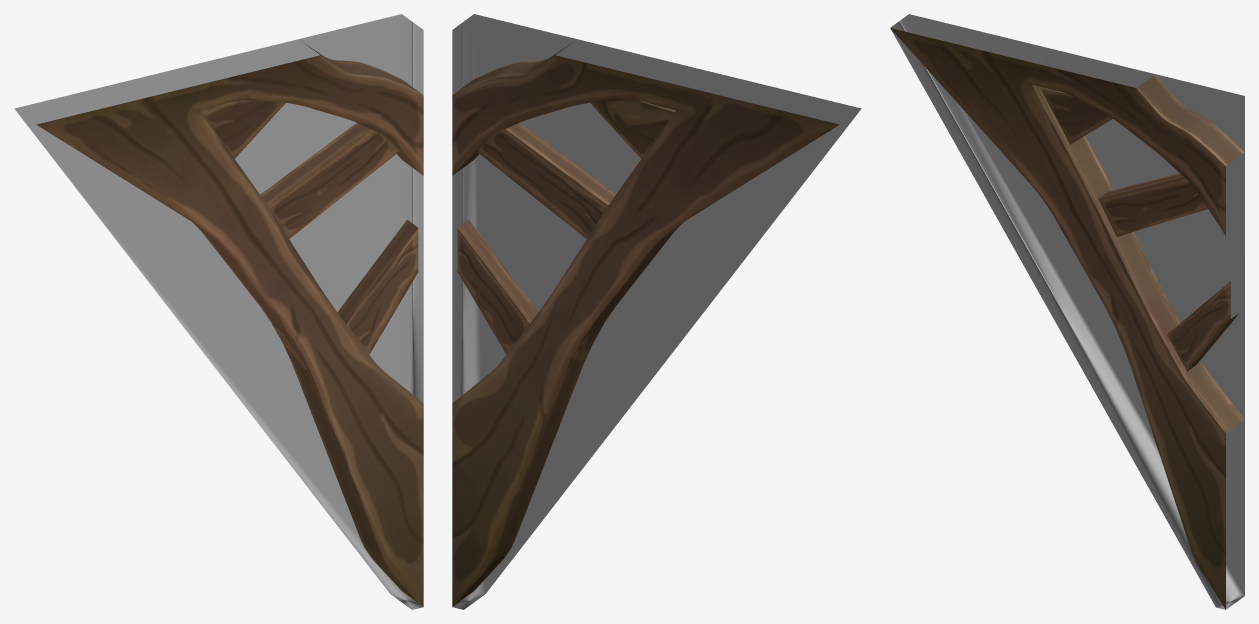
File: SM_FacadePart_02.gltf
3 views of the same model, side by side, from view 1: azimuth 30°, elevation 25°; view 2: azimuth 150°, elevation 25°; view 3: azimuth 330°, elevation 25° (orthographic). The views are drawn at different scales.
Visible parts, largest first — view 1: SM_FacadePart_02_LOD0, SM_FacadePart_02_ConvexHulls; view 2: SM_FacadePart_02_LOD0, SM_FacadePart_02_ConvexHulls; view 3: SM_FacadePart_02_LOD0, SM_FacadePart_02_ConvexHulls.
Part boxes in pixels (bbox=[...]): SM_FacadePart_02_LOD0: bbox=[36, 40, 423, 606]; SM_FacadePart_02_ConvexHulls: bbox=[14, 14, 423, 609]; SM_FacadePart_02_LOD0: bbox=[452, 40, 839, 606]; SM_FacadePart_02_ConvexHulls: bbox=[452, 14, 861, 609]; SM_FacadePart_02_LOD0: bbox=[890, 28, 1244, 609]; SM_FacadePart_02_ConvexHulls: bbox=[890, 14, 1244, 609].
Size of what is drawn, in the model's own units: 1.43 by 2.03 by 0.1404.
Materials: 2 (1 with a texture image).
